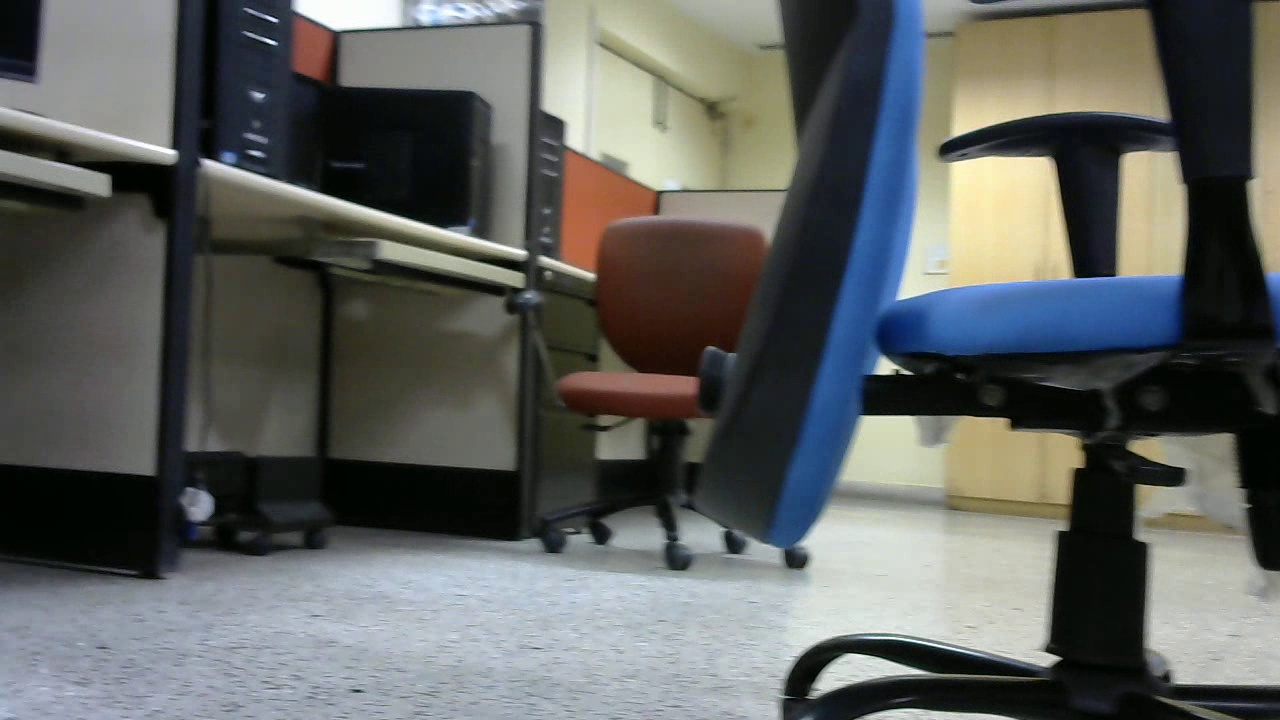chair: (515, 216, 822, 575)
